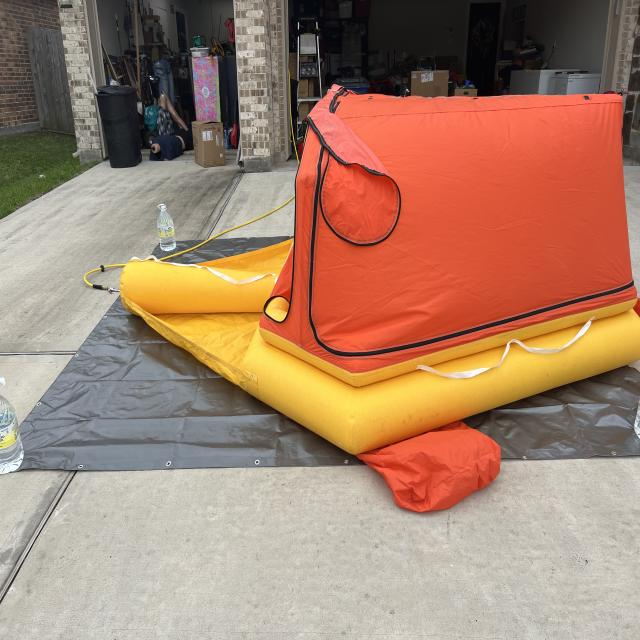Multi-person_life_raft: (120, 83, 640, 513)
